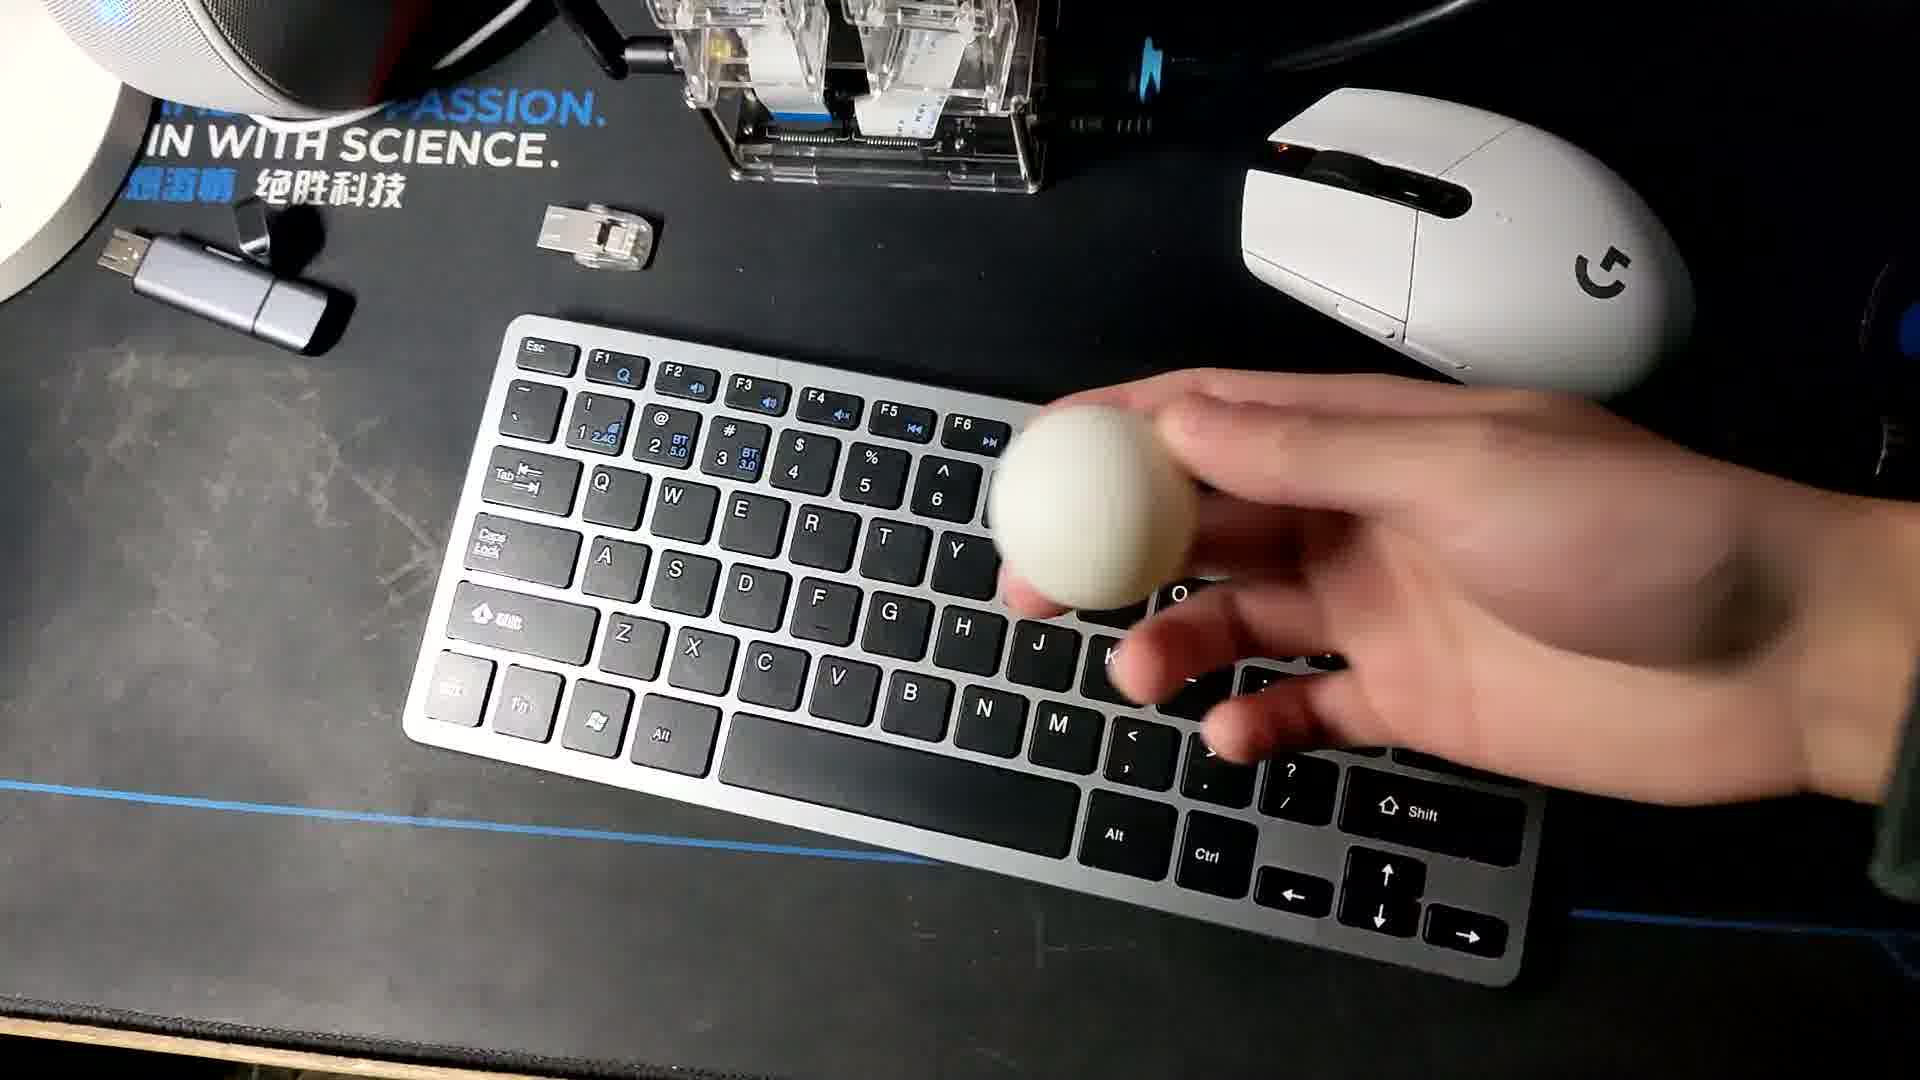Ball: (982, 397, 1203, 611)
